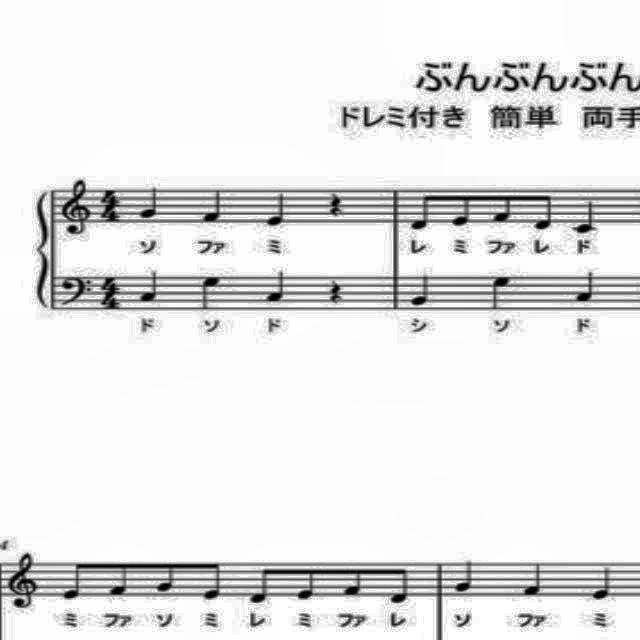Bass-clef: (57, 272, 95, 312)
Eighth-note: (148, 554, 184, 598), (104, 554, 136, 602), (407, 191, 438, 235), (58, 556, 86, 604), (248, 558, 276, 606), (293, 558, 321, 606), (341, 552, 367, 602), (200, 557, 228, 603), (447, 185, 475, 229), (530, 188, 554, 236), (490, 186, 514, 234), (388, 563, 412, 609)
Quarter-note: (406, 270, 436, 310), (569, 200, 601, 236), (137, 184, 163, 228), (198, 274, 226, 314), (262, 266, 290, 306), (569, 270, 599, 306), (486, 273, 514, 311), (522, 561, 548, 601), (264, 189, 288, 229), (592, 562, 616, 602), (202, 187, 226, 225), (454, 558, 478, 594), (139, 269, 161, 307)
Quarter-rest: (328, 278, 348, 310), (326, 189, 346, 219)
Treble-clef: (58, 172, 96, 240), (6, 545, 42, 611)
